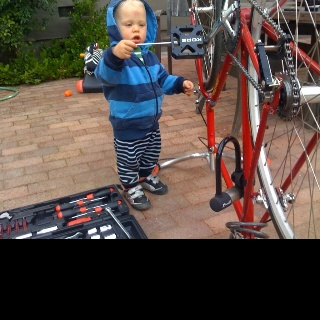without_mask: (112, 0, 147, 48)
